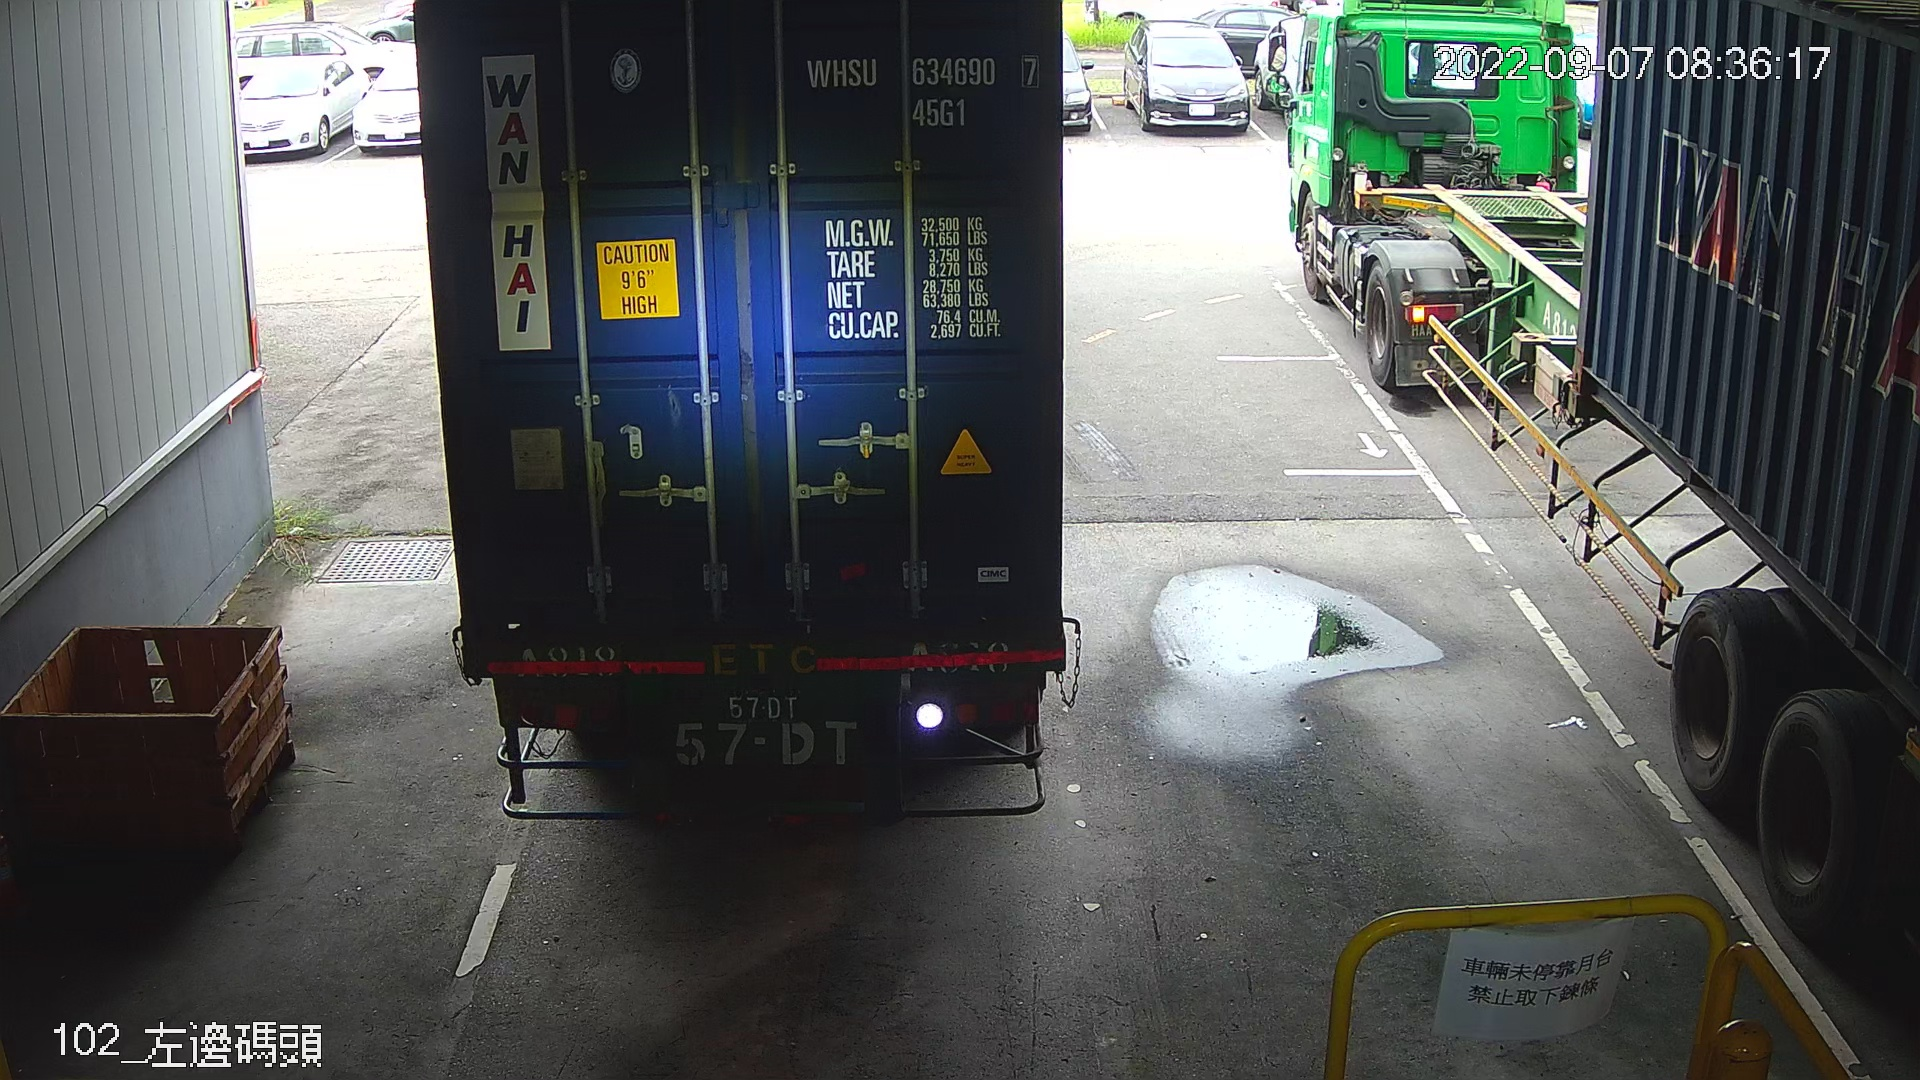container: (796, 45, 1050, 136)
